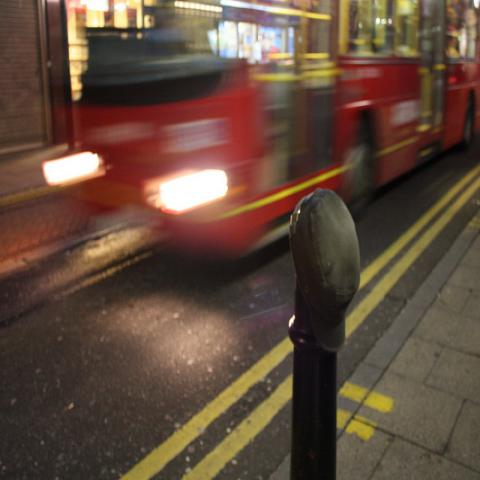bus: (70, 2, 479, 260)
